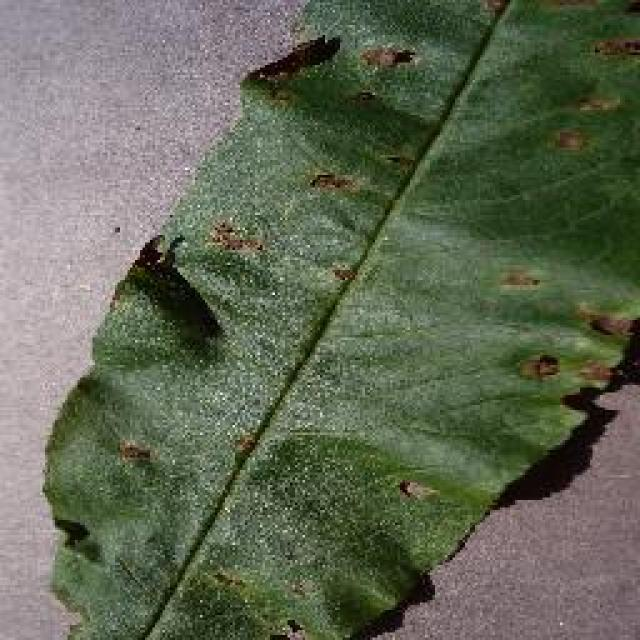Peach_Bacterial_Spot: (250, 67, 617, 418)
